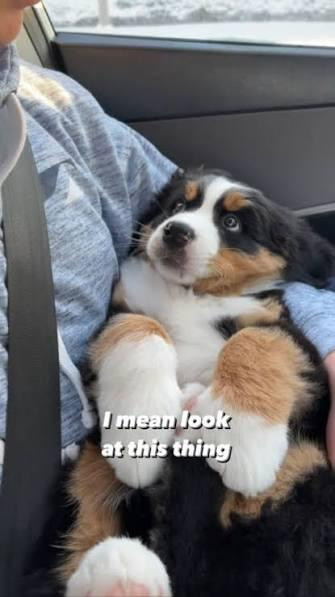non-dog: (0, 0, 335, 593)
puppy-dog: (32, 164, 335, 597)
